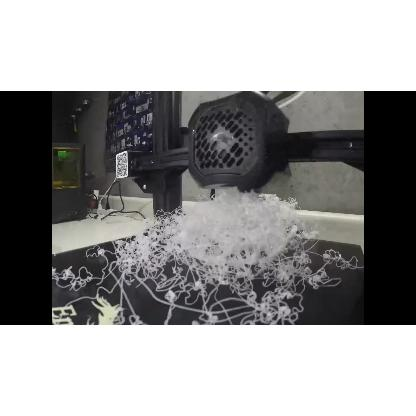fail: (53, 194, 365, 324)
